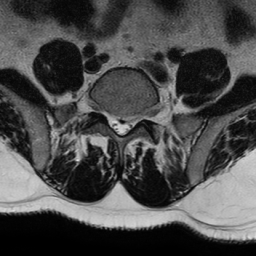CCS_severe_stenosis: (117, 107, 124, 141)
LFS_normal: (133, 104, 143, 130)
LLS_normal: (124, 109, 133, 136)
RFS_normal: (99, 99, 108, 125)
RLS_normal: (108, 106, 117, 133)
